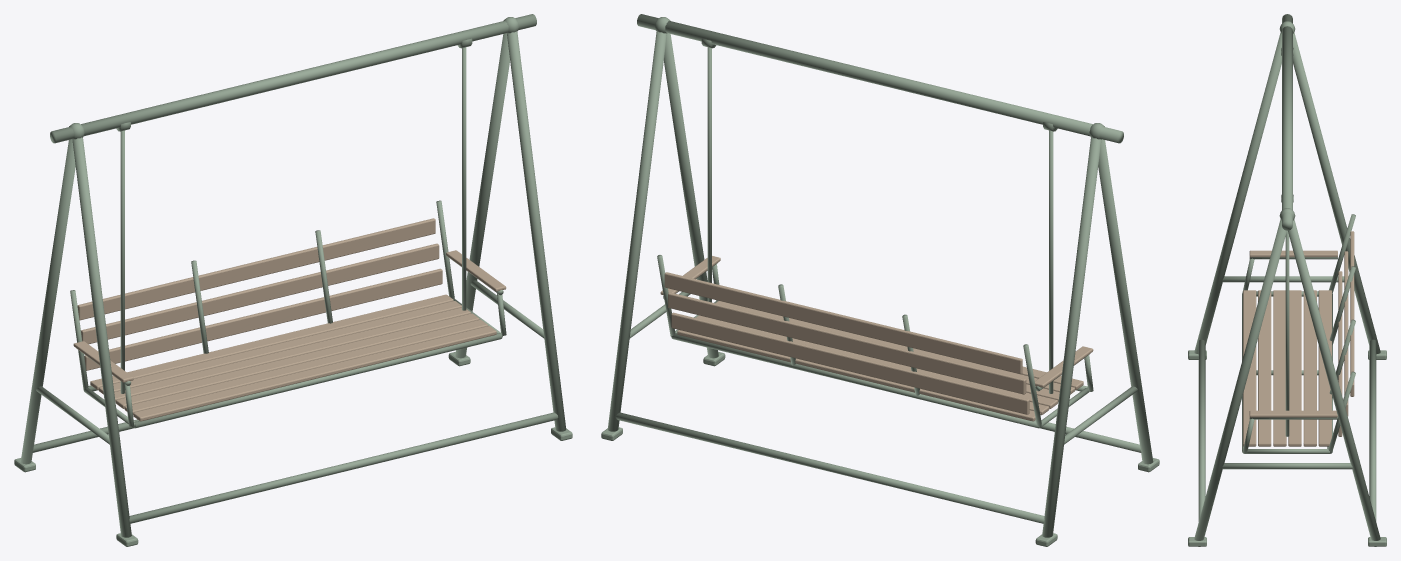
Rendered from Columpio.fbx.
3 renders of one model, left to right at view 1: azimuth 30°, elevation 25°; view 2: azimuth 150°, elevation 25°; view 3: azimuth 270°, elevation 25°, orthographic. The views are drawn at different scales.
Visible parts, largest first — view 1: Columpio_Asiento, Columpio_Marco; view 2: Columpio_Asiento, Columpio_Marco; view 3: Columpio_Marco, Columpio_Asiento.
Part boxes in pixels (x1=…): Columpio_Asiento: x1=70, y1=38, x2=506, y2=428; Columpio_Marco: x1=14, y1=14, x2=572, y2=546; Columpio_Asiento: x1=657, y1=38, x2=1093, y2=428; Columpio_Marco: x1=601, y1=14, x2=1159, y2=546; Columpio_Marco: x1=1188, y1=14, x2=1386, y2=546; Columpio_Asiento: x1=1242, y1=48, x2=1355, y2=453.
Size of the model in its own units: 3.1 by 2.36 by 1.26.
